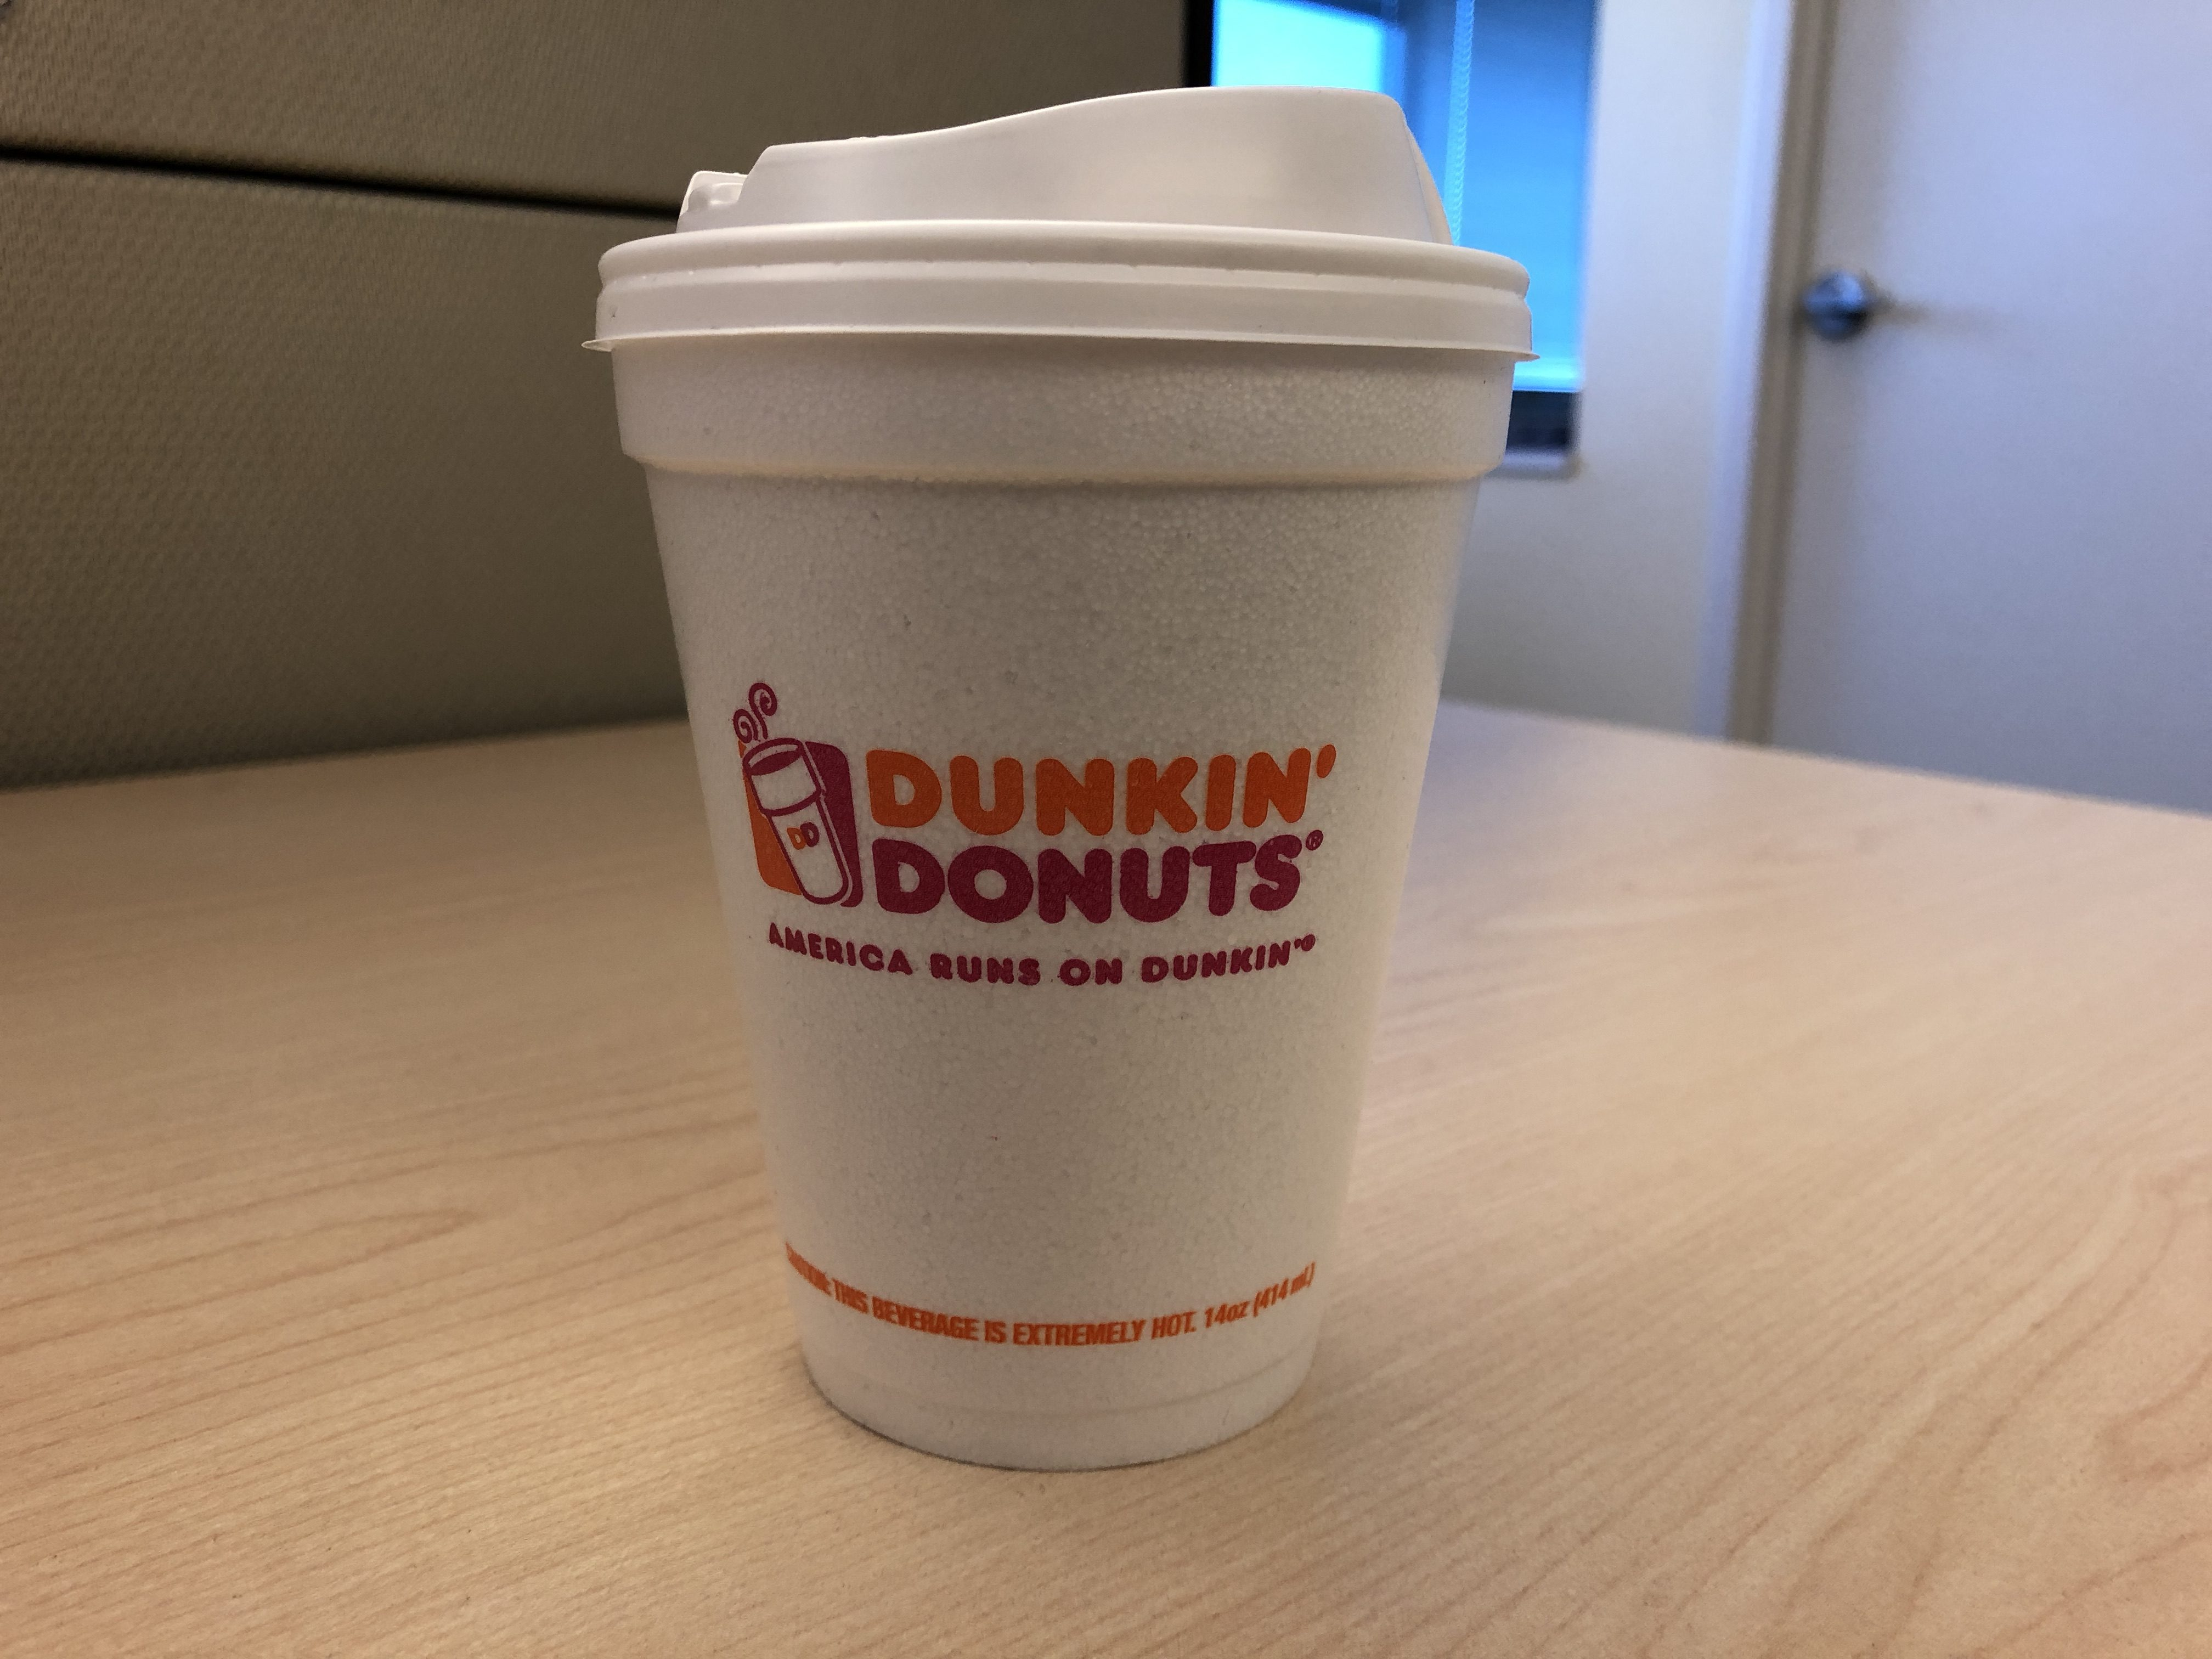Nonrec_Plastic: (556, 38, 1575, 1530)
